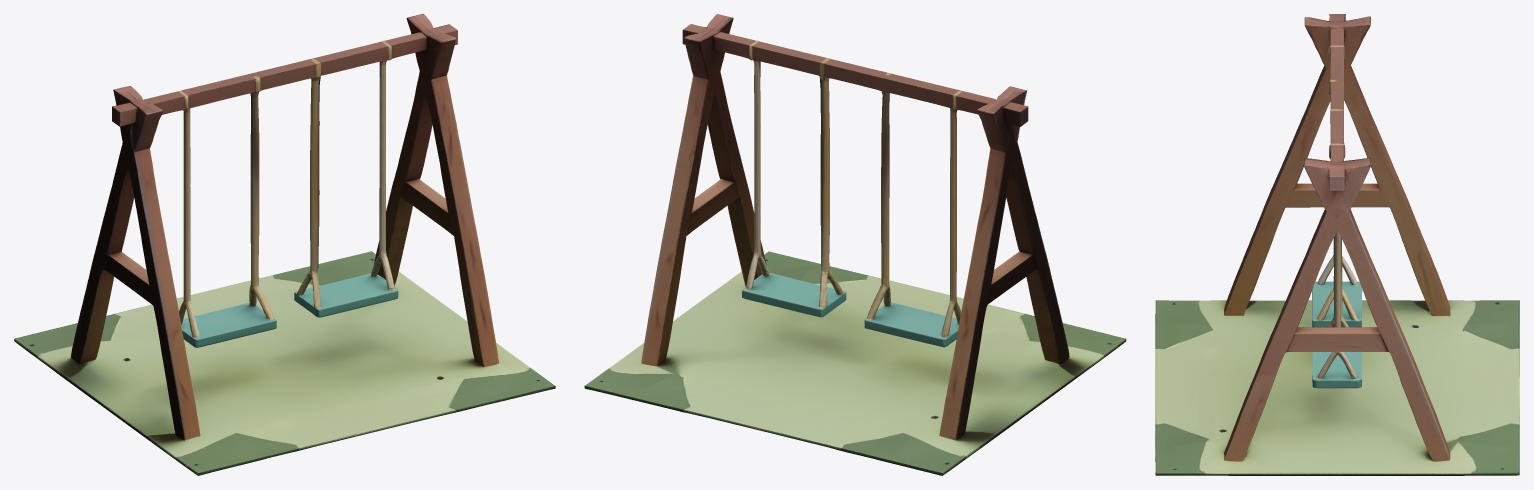
Rendered from swing_set.glb.
The picture shows the model from 3 angles, left to right: view 1: azimuth 30°, elevation 25°; view 2: azimuth 150°, elevation 25°; view 3: azimuth 270°, elevation 25°; orthographic projection.
Visible parts, largest first — view 1: world; view 2: world; view 3: world.
Boxes of the visible parts, left/top/right/bottom form: world: left=14, top=14, right=555, bottom=475; world: left=584, top=14, right=1126, bottom=475; world: left=1155, top=14, right=1519, bottom=475.
Bounding box in the file's own units: 1 × 0.8101 × 0.8915.
1 material, 1 textured.
